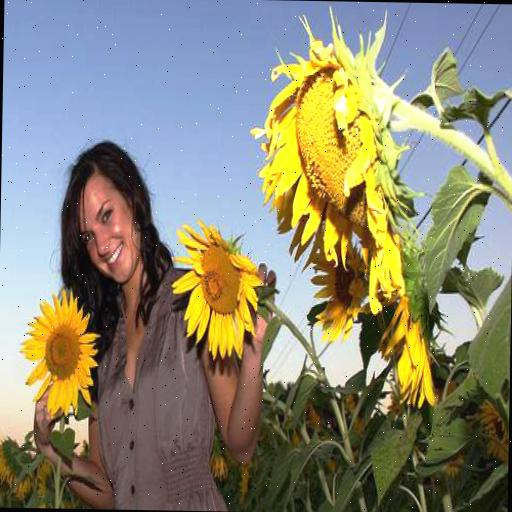sunflower: (250, 43, 409, 284), (170, 222, 264, 358), (24, 294, 94, 415), (312, 244, 370, 343)
